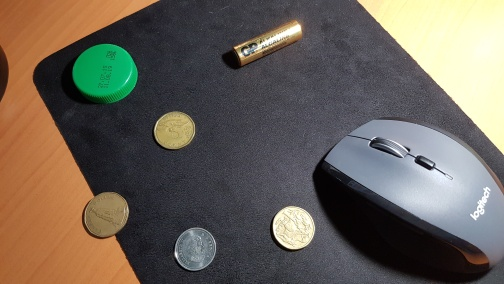coin: (81, 190, 130, 240), (270, 204, 317, 252), (172, 225, 218, 272), (151, 109, 198, 152)
